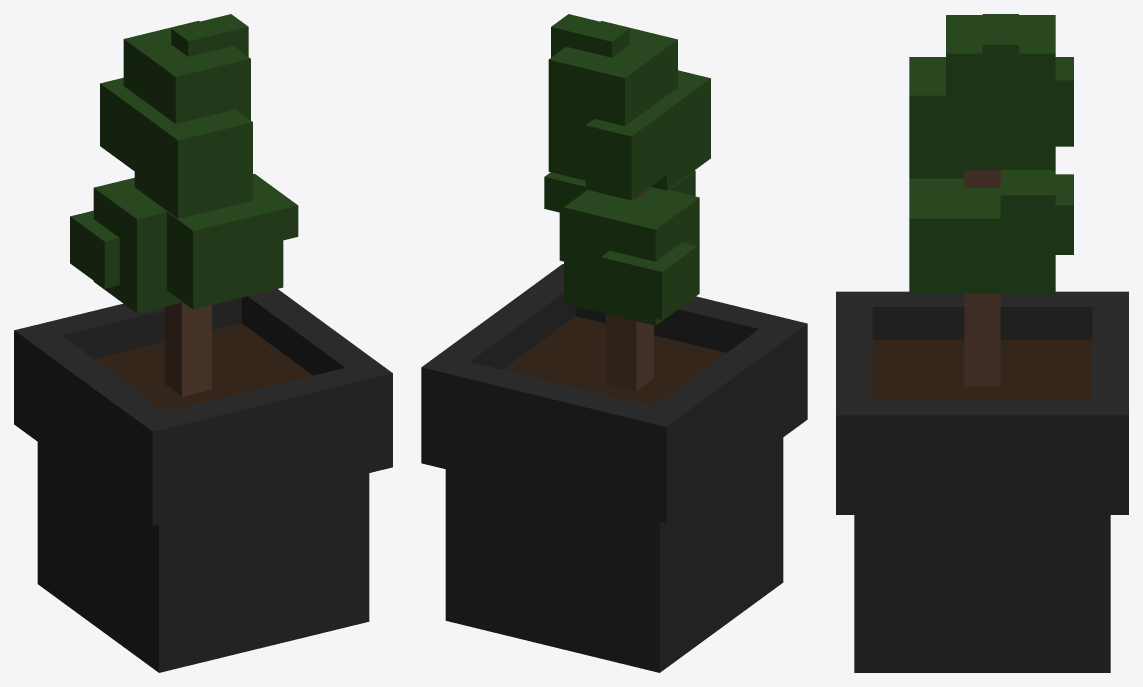
The model's file is plant_big_02.dae.
3 views of the same model, side by side, from view 1: azimuth 30°, elevation 25°; view 2: azimuth 150°, elevation 25°; view 3: azimuth 270°, elevation 25° (orthographic). The views are drawn at different scales.
Parts seen in each view (by area): view 1: Untitled; view 2: Untitled; view 3: Untitled.
Boxes of the visible parts, x1,y1,x2,y2 form: Untitled: [14, 14, 392, 672]; Untitled: [421, 14, 807, 672]; Untitled: [836, 14, 1128, 672].
Bounding box in the file's own units: 0.48 × 0.48 × 1.08.
Materials: 1 (1 with a texture image).
